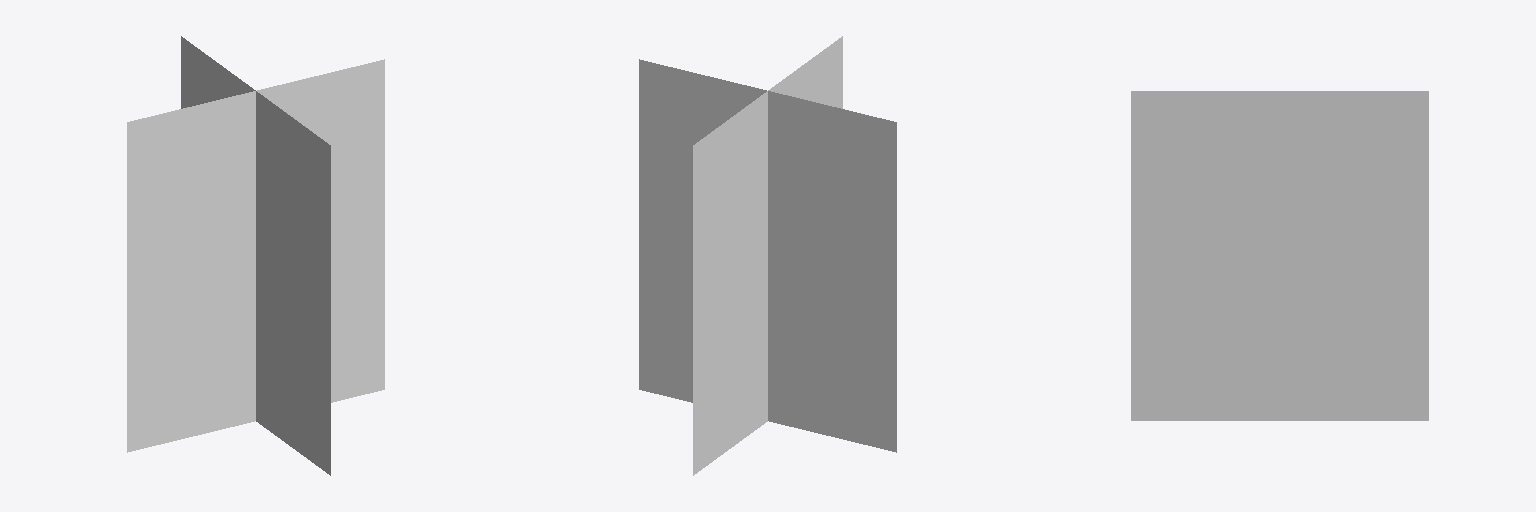
File: Blue_Gum_Eucalyptus_Fan_0.obj
The picture shows the model from 3 angles: view 1: azimuth 30°, elevation 25°; view 2: azimuth 150°, elevation 25°; view 3: azimuth 270°, elevation 25°; orthographic projection.
Parts seen in each view (by area): view 1: CreateFan; view 2: CreateFan; view 3: CreateFan.
Part boxes in pixels (x1,y1,x2,y2): CreateFan: (127,36,384,475); CreateFan: (639,36,896,475); CreateFan: (1131,91,1428,420).
Bounding box in the file's own units: 20.46 × 25 × 20.46.